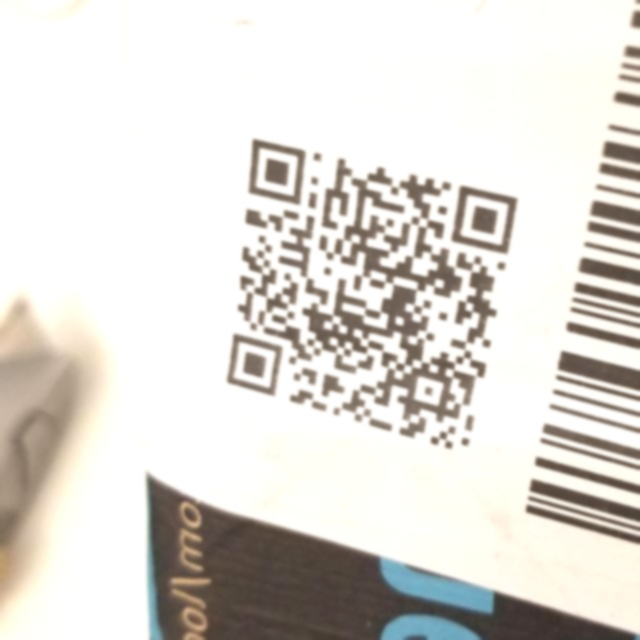qr-code: (180, 122, 540, 460)
